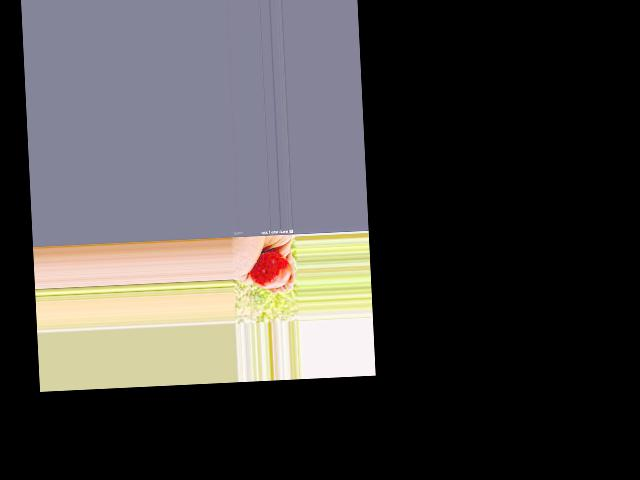tomato: (248, 250, 291, 289)
